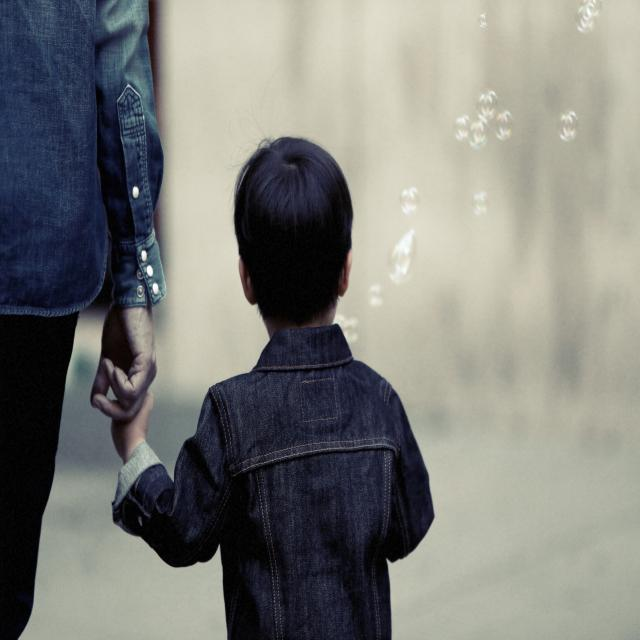adult: (0, 1, 167, 640)
child: (120, 133, 434, 640)
